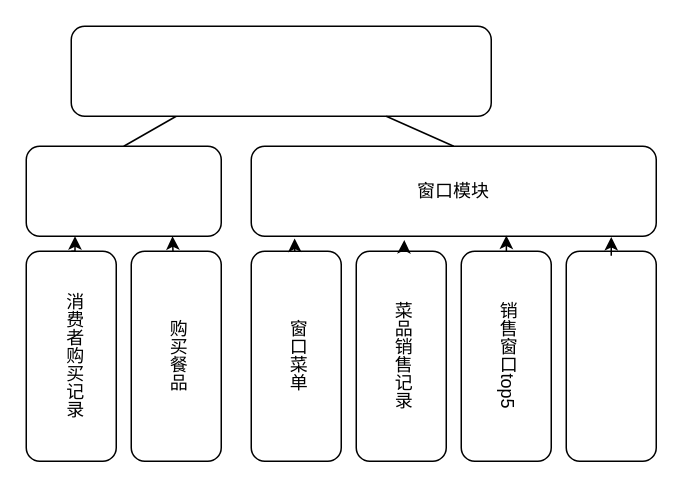
The diagram is 683 pixels wide and 488 high, and some of its shapes have lost their labels. The box of each missing label's shape, as (x1, y1, x2, y2) in pixels:
消费者模块: (25, 145, 221, 236)
销售菜品top5: (565, 250, 656, 461)
食堂管理系统: (70, 25, 491, 116)
